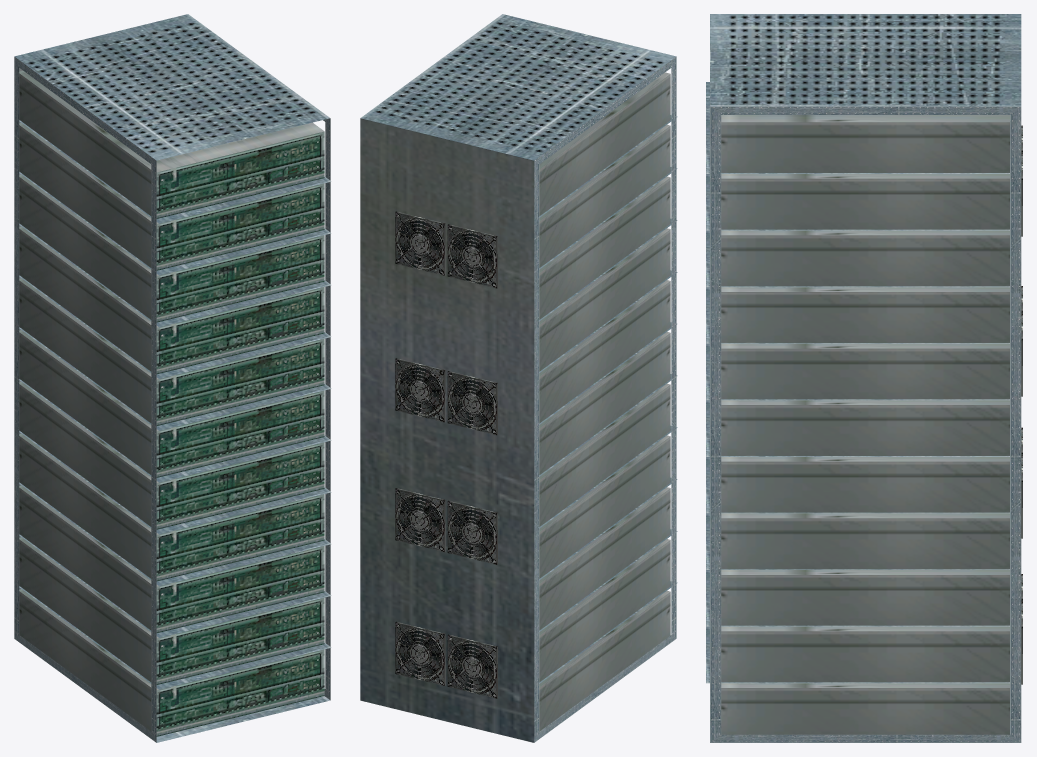
Rendered from hacker_room_rack_3.fbx.
3 views of the same model, side by side, from view 1: azimuth 30°, elevation 25°; view 2: azimuth 150°, elevation 25°; view 3: azimuth 270°, elevation 25° (orthographic). The views are drawn at different scales.
Parts seen in each view (by area): view 1: mesh_0, mesh_2; view 2: mesh_3, mesh_0, mesh_2, mesh_1; view 3: mesh_0, mesh_2, mesh_1.
Boxes of the visible parts, x1,y1,x2,y2 form: mesh_0: (19, 71, 324, 736); mesh_2: (14, 14, 331, 742); mesh_3: (360, 118, 534, 742); mesh_0: (539, 72, 670, 731); mesh_2: (360, 14, 677, 742); mesh_1: (395, 211, 497, 698); mesh_0: (721, 115, 1009, 734); mesh_2: (706, 14, 1021, 742); mesh_1: (1021, 125, 1022, 684).
Size of the model in its own units: 70.31 by 225 by 102.
Materials: 4 (4 with a texture image).
